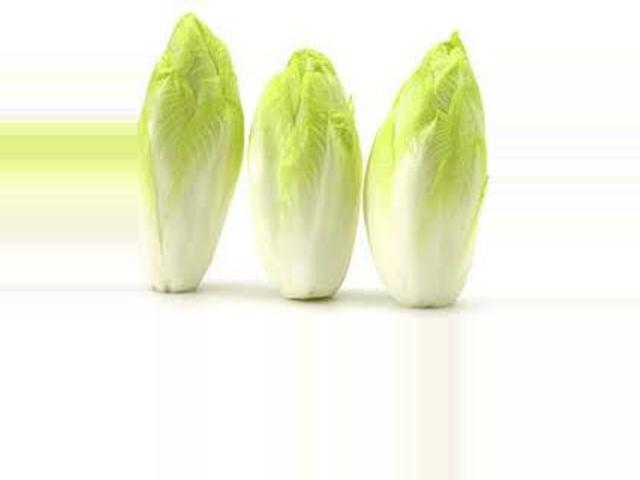lettuce: (367, 28, 488, 318)
